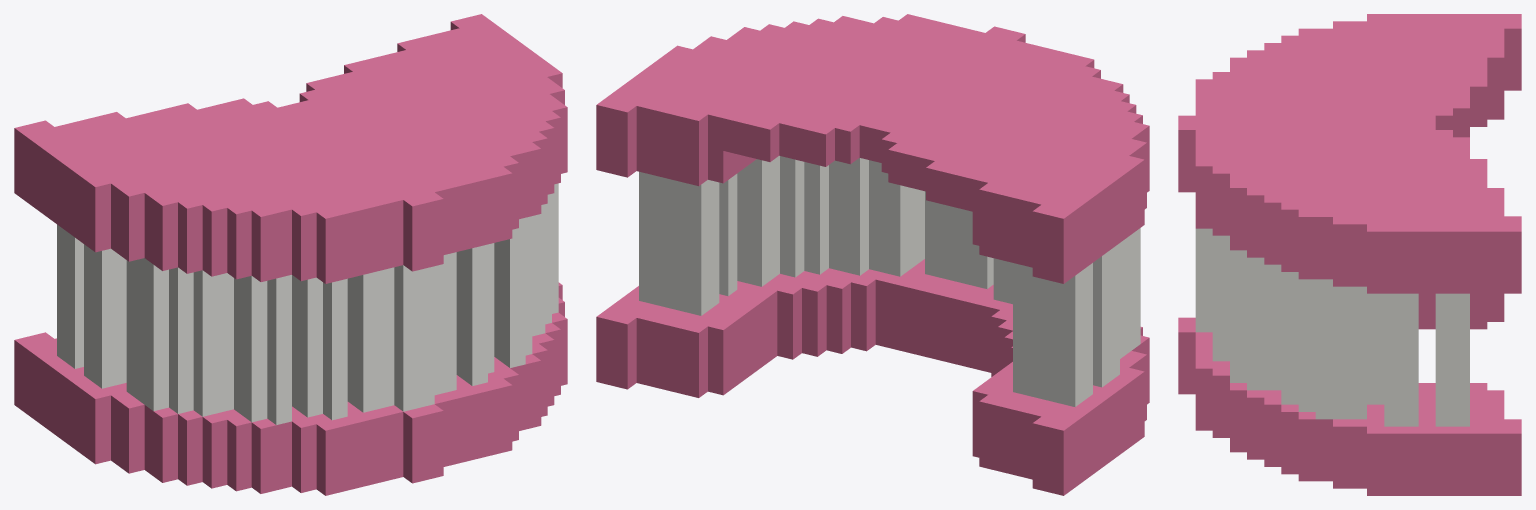
The model's file is dentures.glb.
The picture shows the model from 3 angles, left to right: view 1: azimuth 30°, elevation 25°; view 2: azimuth 150°, elevation 25°; view 3: azimuth 270°, elevation 25°; orthographic projection. The views are drawn at different scales.
Visible parts, largest first — view 1: dentures:compound; view 2: dentures:compound; view 3: dentures:compound.
Part boxes in pixels (x1,y1,x2,y2): dentures:compound: [14, 14, 567, 495]; dentures:compound: [596, 14, 1149, 495]; dentures:compound: [1178, 14, 1521, 495].
Bounding box in the file's own units: 0.06 × 0.034 × 0.04.
